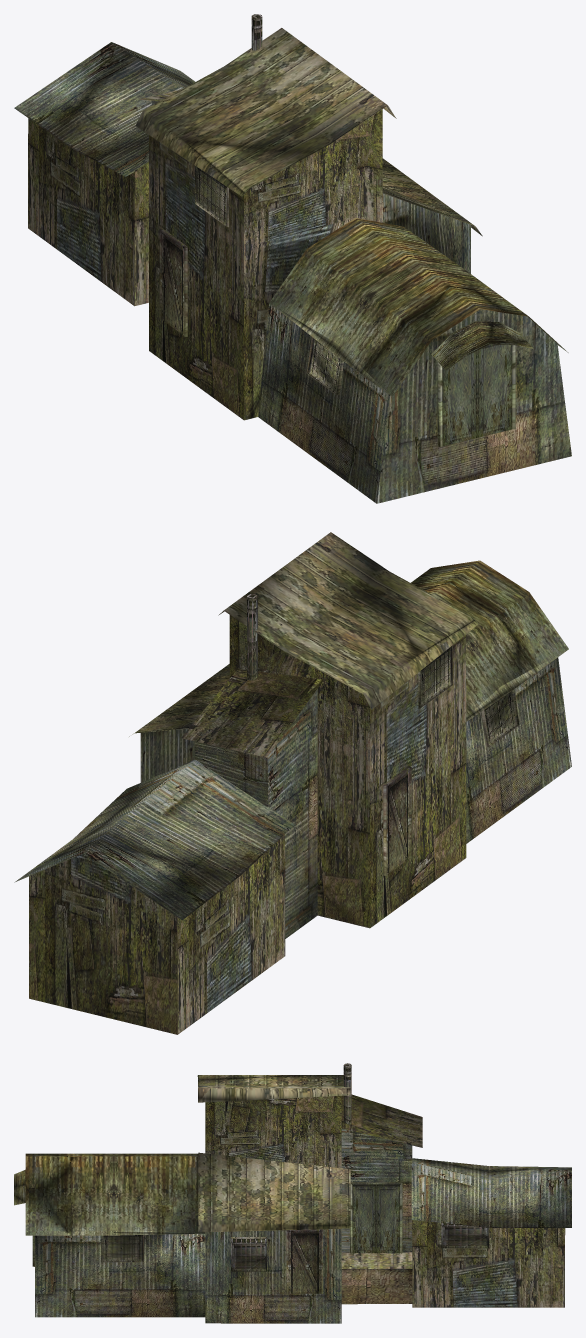
Rendered from MSlm04B.glb.
3 renders of one model, top to bottom at view 1: azimuth 30°, elevation 25°; view 2: azimuth 150°, elevation 25°; view 3: azimuth 270°, elevation 25°, orthographic. The views are drawn at different scales.
Visible parts, largest first — view 1: _MSlm04B; view 2: _MSlm04B; view 3: _MSlm04B.
Boxes of the visible parts, x1,y1,x2,y2 form: _MSlm04B: (14, 14, 571, 503); _MSlm04B: (14, 532, 571, 1034); _MSlm04B: (14, 1063, 571, 1323).
Size of the model in its own units: 5.85 by 7.05 by 16.32.
1 material, 1 textured.
